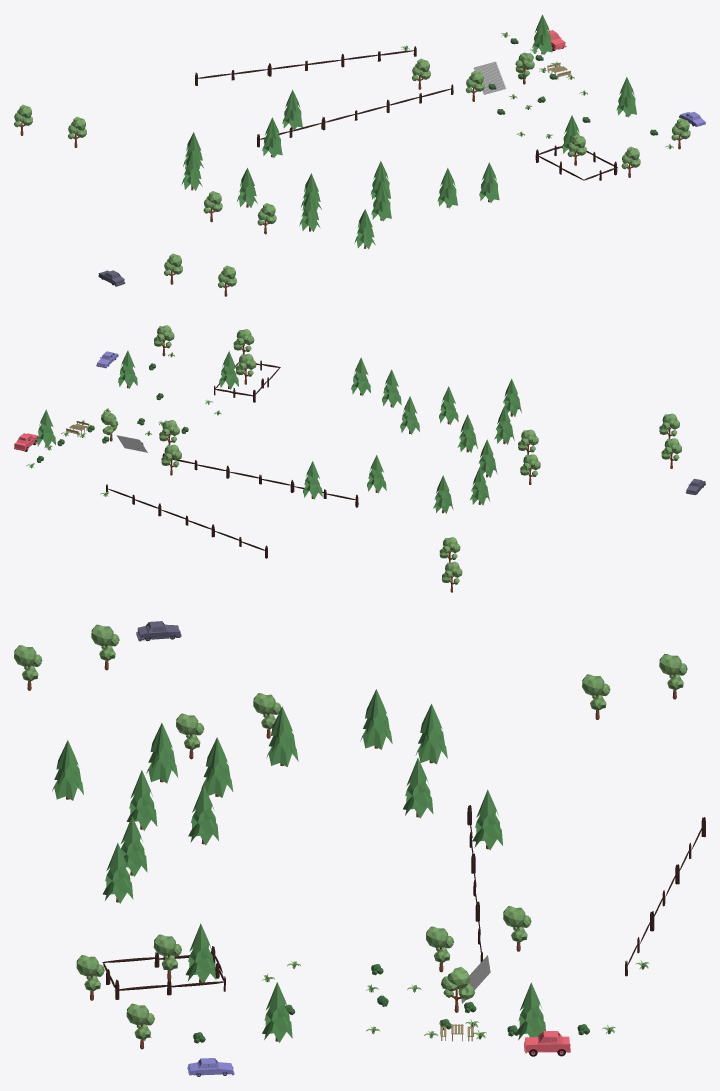
Rendered from city_deko.gltf.
The picture shows the model from 3 angles, top to bottom: view 1: azimuth 30°, elevation 25°; view 2: azimuth 150°, elevation 25°; view 3: azimuth 270°, elevation 25°; orthographic projection. The views are drawn at different scales.
Parts seen in each view (by area): view 1: Cube.019, Tree1.004, Tree1.005, Tree1.003, Tree1.007, Tree1.017, Tree1.009, Tree1.002, Tree1.013, Tree1.010, Tree1.015, Tree1.012; view 2: Tree1.014, Tree1.010, Tree1.011, Tree1.015, Tree1.002, Tree1.004, Tree1.005, Tree1.007, Tree1.017, Tree1.009, Tree1.001, Tree1.016 (+2 smaller); view 3: Tree1.011, Tree1.013, Tree1.012, Tree1.015, Tree1.010, Tree1.014, Tree1.009, Tree1.003, Tree1.002, Tree1.007, Tree1.016, Tree1.001 (+15 smaller).
Boxes of the visible parts, left/top/right/bottom form: Cube.019: left=473, top=61, right=506, bottom=94; Tree1.004: left=371, top=181, right=391, bottom=221; Tree1.005: left=437, top=168, right=457, bottom=208; Tree1.003: left=616, top=77, right=636, bottom=117; Tree1.007: left=282, top=89, right=302, bottom=129; Tree1.017: left=532, top=14, right=552, bottom=54; Tree1.009: left=262, top=117, right=282, bottom=157; Tree1.002: left=479, top=162, right=499, bottom=202; Tree1.013: left=354, top=209, right=375, bottom=249; Tree1.010: left=181, top=150, right=202, bottom=190; Tree1.015: left=299, top=192, right=320, bottom=231; Tree1.012: left=237, top=168, right=257, bottom=207; Tree1.014: left=457, top=414, right=477, bottom=452; Tree1.010: left=470, top=467, right=489, bottom=505; Tree1.011: left=433, top=475, right=453, bottom=513; Tree1.015: left=494, top=406, right=514, bottom=444; Tree1.002: left=351, top=357, right=370, bottom=395; Tree1.004: left=439, top=386, right=458, bottom=424; Tree1.005: left=382, top=369, right=401, bottom=407; Tree1.007: left=303, top=461, right=322, bottom=499; Tree1.017: left=36, top=409, right=55, bottom=447; Tree1.009: left=367, top=455, right=386, bottom=493; Tree1.001: left=219, top=351, right=238, bottom=389; Tree1.016: left=400, top=396, right=419, bottom=434; Tree1.011: left=415, top=704, right=447, bottom=764; Tree1.013: left=52, top=740, right=83, bottom=800; Tree1.012: left=266, top=706, right=298, bottom=766; Tree1.015: left=146, top=723, right=178, bottom=783; Tree1.010: left=360, top=689, right=392, bottom=749; Tree1.014: left=201, top=737, right=233, bottom=797; Tree1.009: left=403, top=758, right=433, bottom=818; Tree1.003: left=262, top=982, right=292, bottom=1042; Tree1.002: left=103, top=843, right=133, bottom=903; Tree1.007: left=472, top=789, right=502, bottom=850; Tree1.016: left=188, top=784, right=218, bottom=845; Tree1.001: left=185, top=923, right=216, bottom=984.
Size of the model in its own units: 239 by 16.23 by 157.
